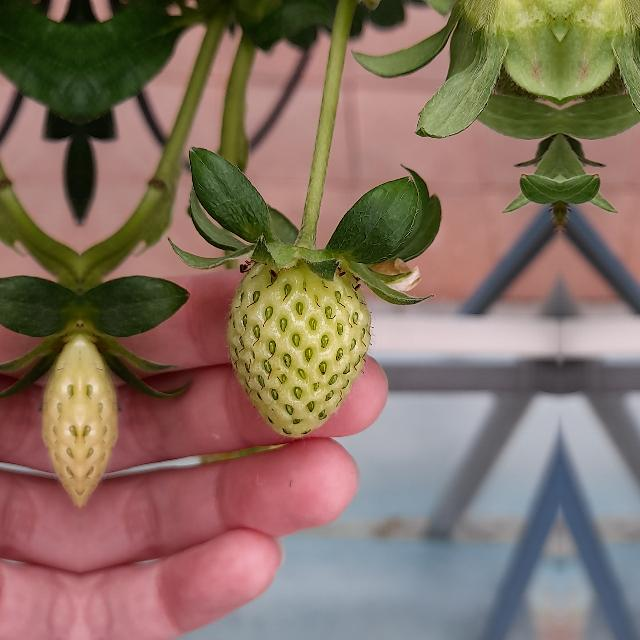Health_25: (227, 258, 371, 438)
